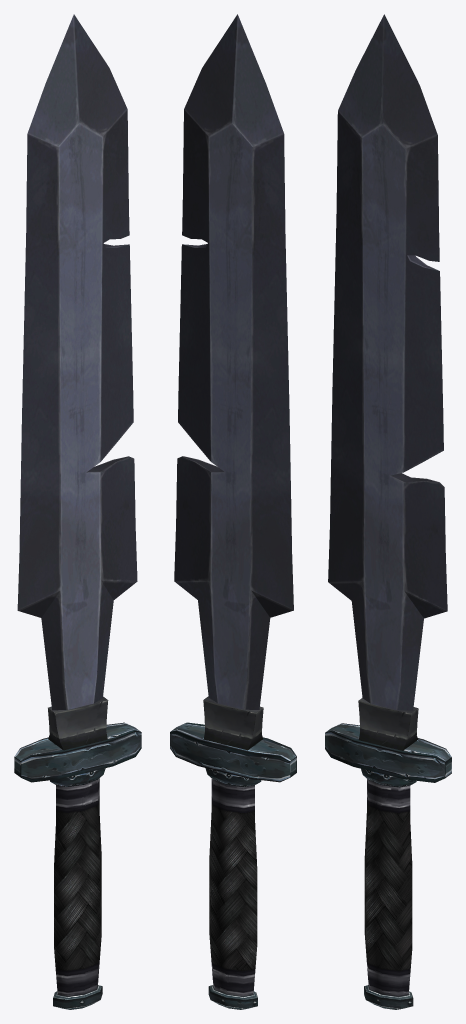
File: Sword.obj
3 renders of one model, left to right at view 1: azimuth 30°, elevation 25°; view 2: azimuth 150°, elevation 25°; view 3: azimuth 330°, elevation 25°, orthographic.
Visible parts, largest first — view 1: sword7; view 2: sword7; view 3: sword7.
Boxes of the visible parts, x1,y1,x2,y2 form: sword7: (14, 14, 141, 1009); sword7: (170, 14, 296, 1009); sword7: (325, 14, 451, 1009).
Bounding box in the file's own units: 4.97 × 39.1 × 1.35.
Materials: 1 (1 with a texture image).
